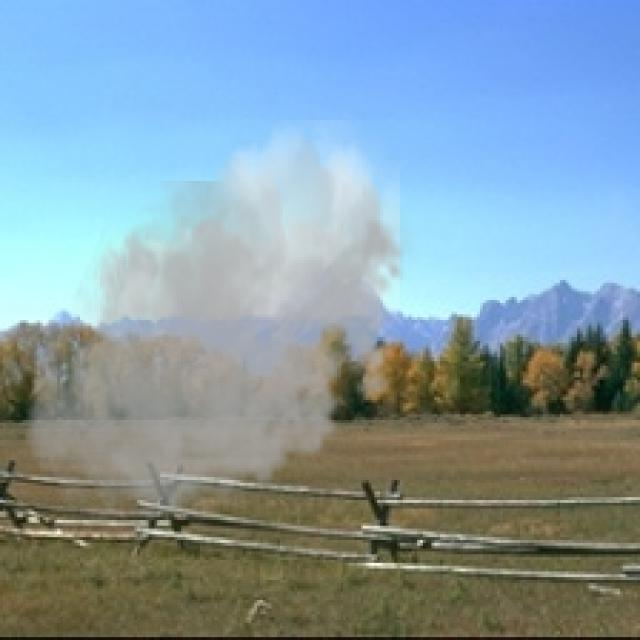smoke: (17, 120, 417, 537)
